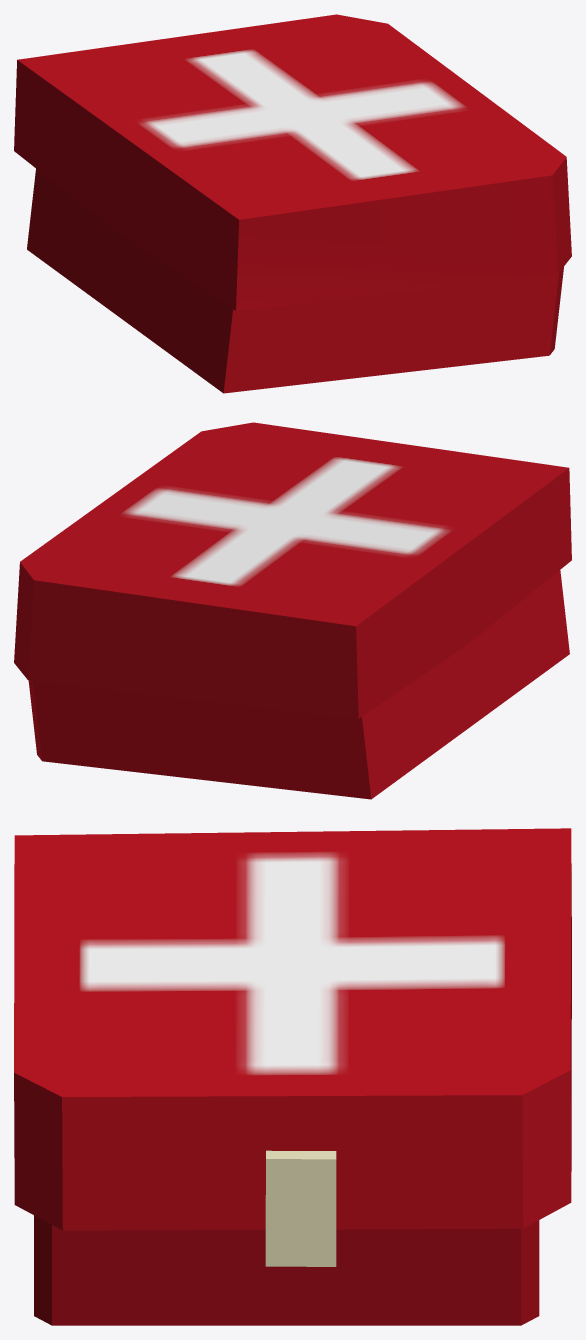
File: MedicKit_Closed.fbx
3 renders of one model, top to bottom at view 1: azimuth 30°, elevation 25°; view 2: azimuth 150°, elevation 25°; view 3: azimuth 270°, elevation 25°, orthographic. The views are drawn at different scales.
Visible parts, largest first — view 1: MedicKit; view 2: MedicKit; view 3: MedicKit.
Part boxes in pixels (bbox=[...]): MedicKit: bbox=[14, 14, 571, 393]; MedicKit: bbox=[14, 422, 571, 799]; MedicKit: bbox=[14, 828, 571, 1325].
Bounding box in the file's own units: 98.65 × 54.75 × 96.51.
